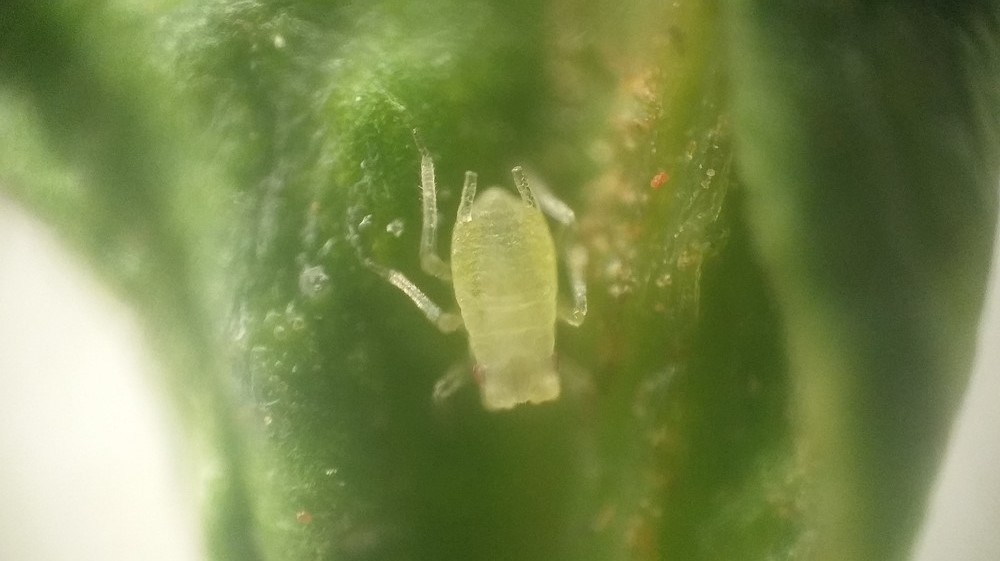Pulgon: (352, 130, 645, 437)
